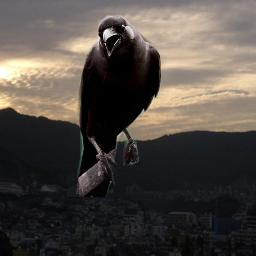Crow: (76, 15, 161, 197)
